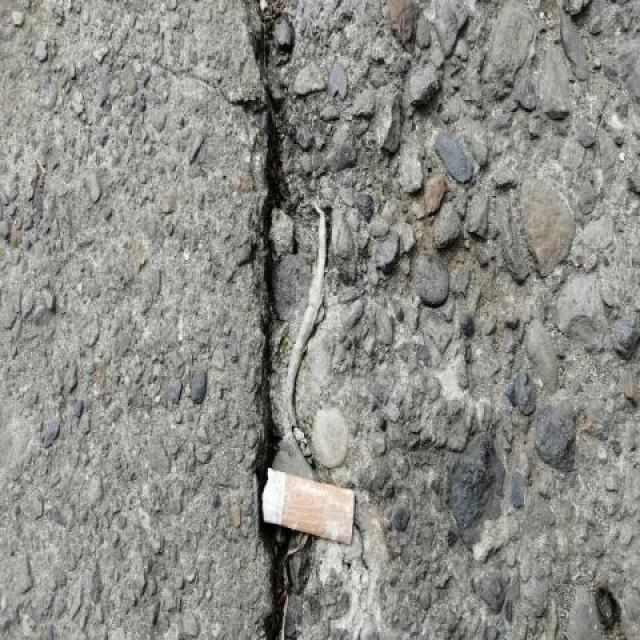non-organic waste: (258, 462, 363, 549)
